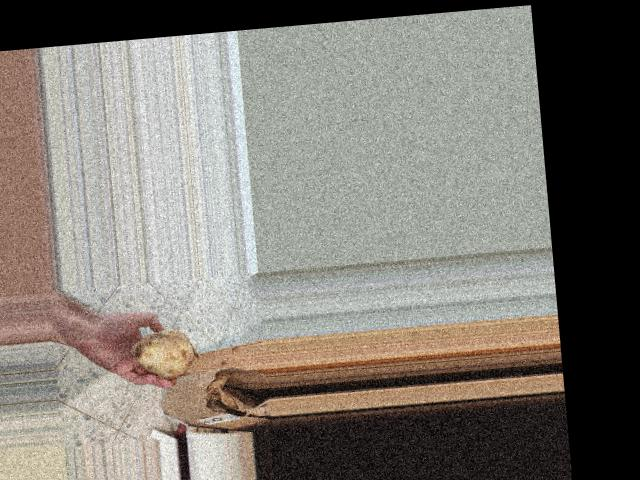onion: (126, 323, 201, 387)
